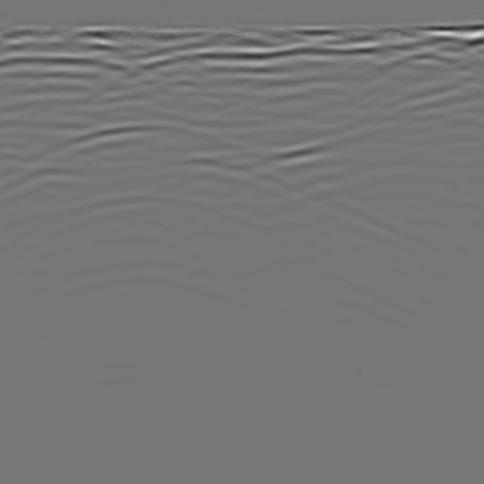hyperbola: (29, 114, 279, 234)
